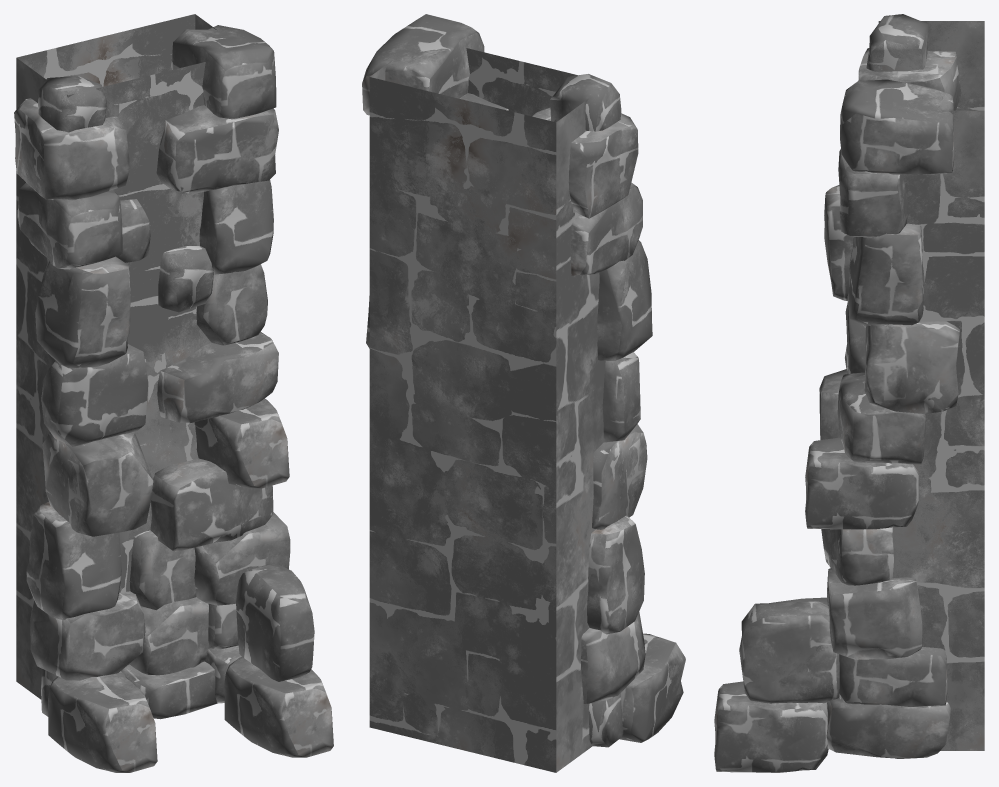
Rendered from Wall_ThinEndPiece.fbx.
3 renders of one model, left to right at view 1: azimuth 30°, elevation 25°; view 2: azimuth 150°, elevation 25°; view 3: azimuth 270°, elevation 25°, orthographic. The views are drawn at different scales.
Parts seen in each view (by area): view 1: Rocks_01.030, Wall_02.004; view 2: Wall_02.004, Rocks_01.030; view 3: Rocks_01.030, Wall_02.004.
Part boxes in pixels (box(x1,y1,x2,y2)): Rocks_01.030: box(14, 25, 333, 772); Wall_02.004: box(16, 14, 216, 699); Wall_02.004: box(369, 48, 605, 772); Rocks_01.030: box(362, 14, 685, 747); Rocks_01.030: box(714, 14, 961, 772); Wall_02.004: box(878, 21, 984, 750).
Bounding box in the file's own units: 1.94 × 5.28 × 1.91.
